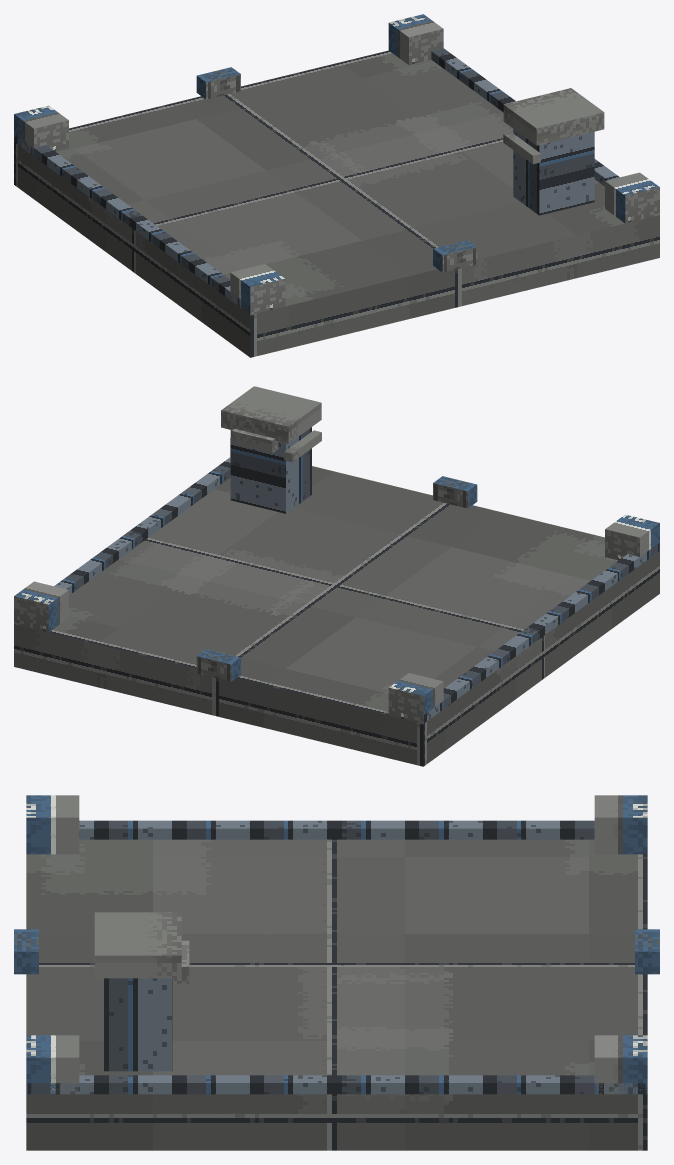
Rendered from sp_skiff_deck_bare.glb.
3 renders of one model, top to bottom at view 1: azimuth 30°, elevation 25°; view 2: azimuth 150°, elevation 25°; view 3: azimuth 270°, elevation 25°, orthographic. The views are drawn at different scales.
Visible parts, largest first — view 1: skiff_deck, console, skiff_curb_-1, console_head, skiff_bumper_-1-1, skiff_bumper_1-1, skiff_bumper_11, skiff_bumper_-11, skiff_curb_1, lamp_aft, lamp_fore, console_grab; view 2: skiff_deck, console, skiff_curb_-1, console_head, skiff_curb_1, skiff_bumper_11, skiff_bumper_-11, skiff_bumper_-1-1, lamp_fore, lamp_aft, console_readout, console_grab; view 3: skiff_deck, skiff_curb_1, skiff_curb_-1, console, console_head, skiff_bumper_-1-1, skiff_bumper_-11, skiff_bumper_11, skiff_bumper_1-1, lamp_fore, lamp_aft.
Part boxes in pixels (<box>): skiff_deck: <box>14,50,659,357</box>; console: <box>513,129,594,215</box>; skiff_curb_-1: <box>14,135,249,313</box>; console_head: <box>503,88,604,145</box>; skiff_bumper_-1-1: <box>230,264,285,314</box>; skiff_bumper_1-1: <box>605,172,659,223</box>; skiff_bumper_11: <box>388,14,443,64</box>; skiff_bumper_-11: <box>14,105,68,154</box>; skiff_curb_1: <box>431,48,619,186</box>; lamp_aft: <box>196,67,240,99</box>; lamp_fore: <box>433,240,477,272</box>; console_grab: <box>503,132,540,164</box>; skiff_deck: <box>14,466,659,766</box>; console: <box>230,427,311,513</box>; skiff_curb_-1: <box>424,543,659,723</box>; console_head: <box>221,386,321,443</box>; skiff_curb_1: <box>54,457,230,595</box>; skiff_bumper_11: <box>14,581,68,632</box>; skiff_bumper_-11: <box>388,673,443,723</box>; skiff_bumper_-1-1: <box>605,514,659,560</box>; lamp_fore: <box>433,476,477,508</box>; lamp_aft: <box>196,649,240,681</box>; console_readout: <box>231,428,278,453</box>; console_grab: <box>284,430,321,462</box>; skiff_deck: <box>26,839,647,1150</box>; skiff_curb_1: <box>28,1075,645,1094</box>; skiff_curb_-1: <box>79,820,594,839</box>; console: <box>104,978,172,1071</box>; console_head: <box>94,912,181,978</box>; skiff_bumper_-1-1: <box>26,795,79,854</box>; skiff_bumper_-11: <box>594,795,647,854</box>; skiff_bumper_11: <box>594,1035,647,1094</box>; skiff_bumper_1-1: <box>26,1035,79,1094</box>; lamp_fore: <box>14,929,38,974</box>; lamp_aft: <box>635,929,659,974</box>.
Bounding box in the file's own units: 4 × 1.29 × 4.16.
Materials: 3 (3 with a texture image).
